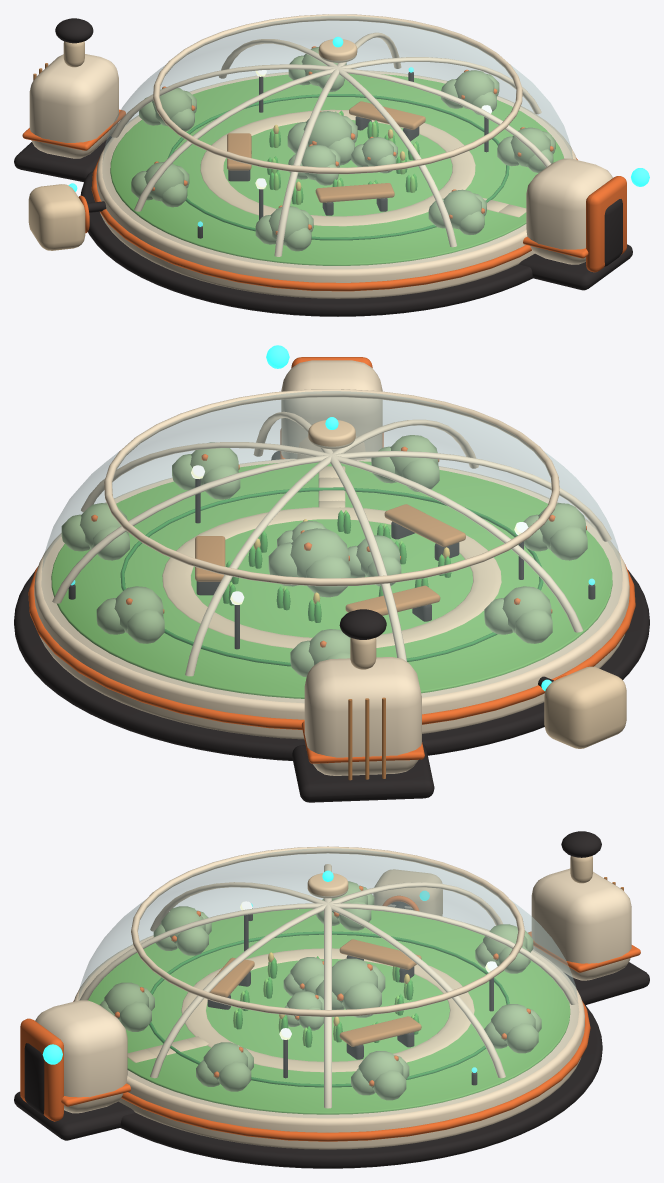
The model's file is park.glb.
The picture shows the model from 3 angles, top to bottom: view 1: azimuth 30°, elevation 25°; view 2: azimuth 150°, elevation 25°; view 3: azimuth 270°, elevation 25°; orthographic projection. The views are drawn at different scales.
Parts seen in each view (by area): view 1: Sphere.141, Cube.014, Cylinder.002, Cube.004, Sphere.003, Cube, Cube.015, Cube.006, Torus.002, Sphere.094, Sphere.093, Sphere.139; view 2: Sphere.141, Cube.014, Cylinder.002, Sphere.003, Cube.004, Cube, Cube.015, Cube.006, Torus.002, Sphere.094, Sphere.139; view 3: Sphere.141, Cube.014, Cylinder.002, Cube.004, Sphere.003, Cube, Cube.015, Cube.006, Torus.002, Sphere.094, Sphere.139, Sphere.093.
Boxes of the visible parts, left/top/right/bottom form: Sphere.141: left=102, top=15, right=572, bottom=268; Cube.014: left=29, top=14, right=612, bottom=298; Cylinder.002: left=110, top=73, right=563, bottom=265; Cube.004: left=14, top=18, right=632, bottom=316; Sphere.003: left=131, top=47, right=555, bottom=251; Cube: left=28, top=39, right=526, bottom=250; Cube.015: left=22, top=46, right=626, bottom=291; Cube.006: left=33, top=63, right=425, bottom=202; Torus.002: left=167, top=94, right=509, bottom=240; Sphere.094: left=251, top=110, right=419, bottom=204; Sphere.093: left=271, top=112, right=417, bottom=204; Sphere.139: left=68, top=36, right=649, bottom=226; Sphere.141: left=41, top=391, right=622, bottom=702; Cube.014: left=34, top=360, right=629, bottom=775; Cylinder.002: left=51, top=461, right=612, bottom=698; Sphere.003: left=61, top=435, right=587, bottom=676; Cube.004: left=14, top=451, right=649, bottom=802; Cube: left=162, top=420, right=626, bottom=748; Cube.015: left=28, top=357, right=635, bottom=763; Cube.006: left=195, top=504, right=465, bottom=780; Torus.002: left=120, top=487, right=543, bottom=666; Sphere.094: left=222, top=510, right=451, bottom=622; Sphere.139: left=71, top=345, right=594, bottom=690; Sphere.141: left=78, top=848, right=578, bottom=1117; Cube.014: left=35, top=846, right=631, bottom=1149; Cylinder.002: left=88, top=908, right=570, bottom=1114; Cube.004: left=14, top=831, right=649, bottom=1168; Sphere.003: left=99, top=881, right=541, bottom=1100; Cube: left=127, top=856, right=592, bottom=1072; Cube.015: left=20, top=886, right=640, bottom=1141; Cube.006: left=210, top=877, right=623, bottom=1046; Torus.002: left=149, top=931, right=509, bottom=1087; Sphere.094: left=235, top=956, right=419, bottom=1047; Sphere.139: left=42, top=870, right=477, bottom=1072; Sphere.093: left=233, top=962, right=414, bottom=1045.
Size of the model in its own units: 2.07 by 0.693 by 2.18.
